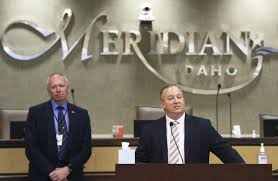Caution: (25, 72, 209, 164)
